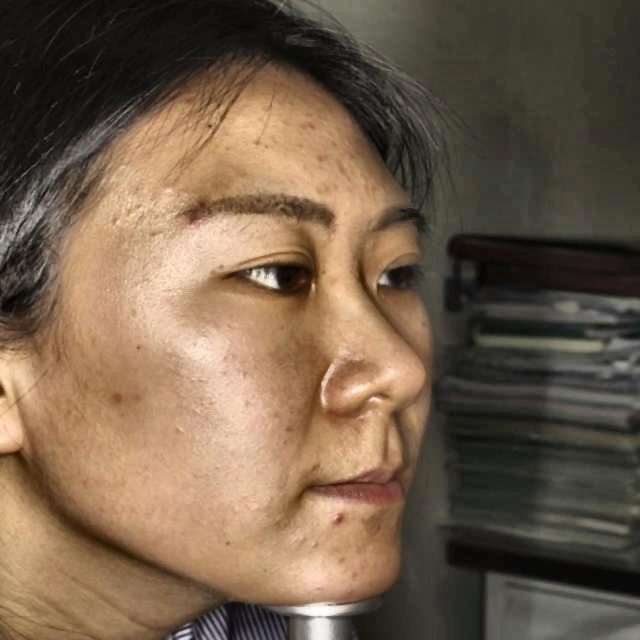comedone: (182, 201, 204, 240), (331, 506, 352, 530)
